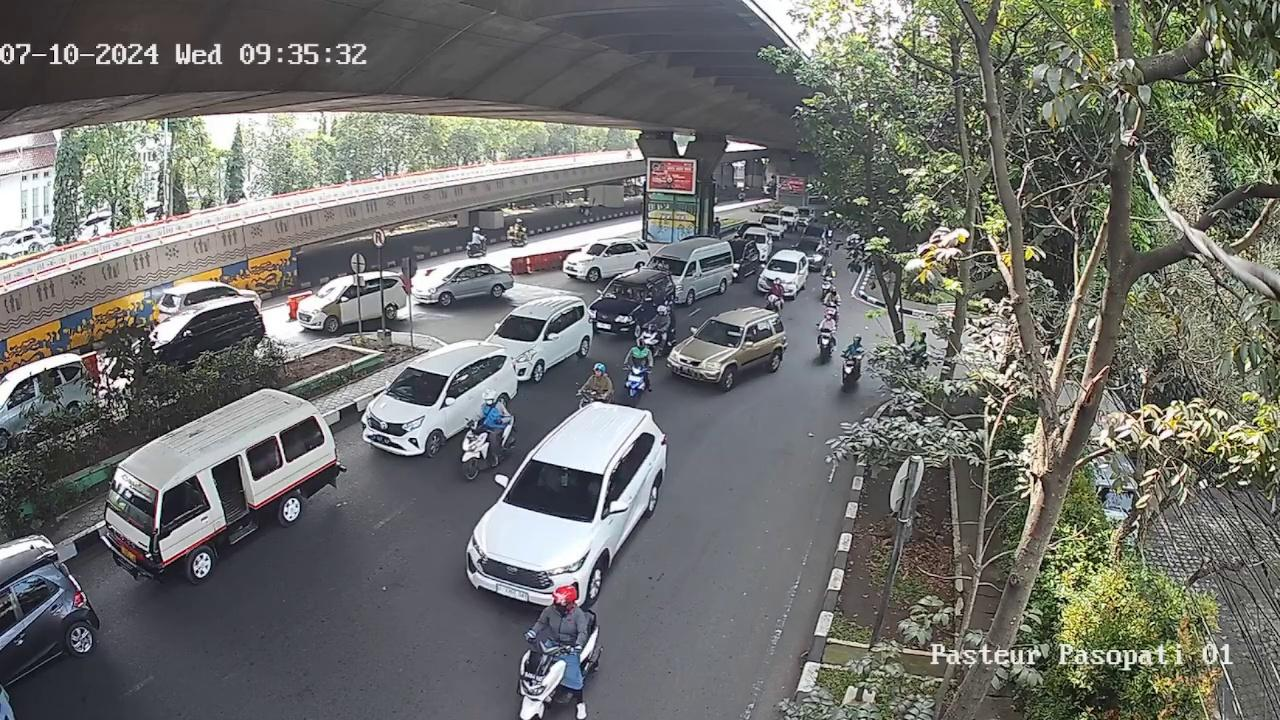pakai: (516, 320, 535, 337)
tidak-pakai: (538, 465, 572, 499)
windshield: (503, 459, 606, 521), (105, 465, 160, 537), (387, 367, 451, 406), (693, 317, 744, 349), (494, 312, 545, 343), (605, 281, 647, 303)
